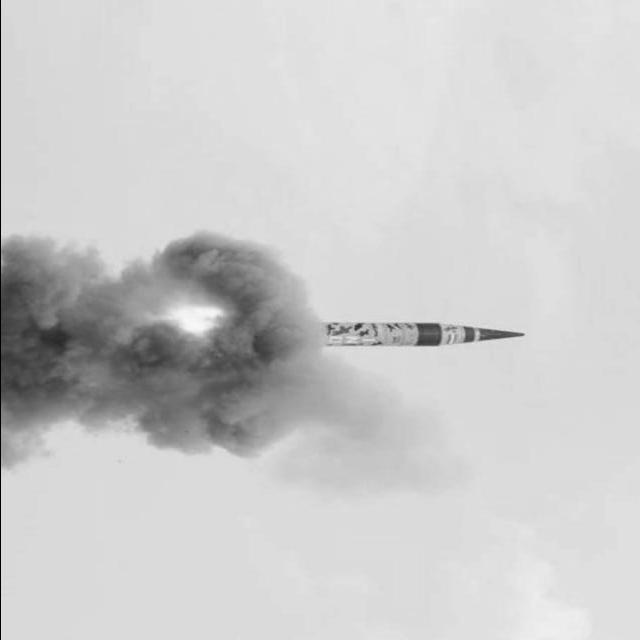Missile: (307, 318, 537, 352)
